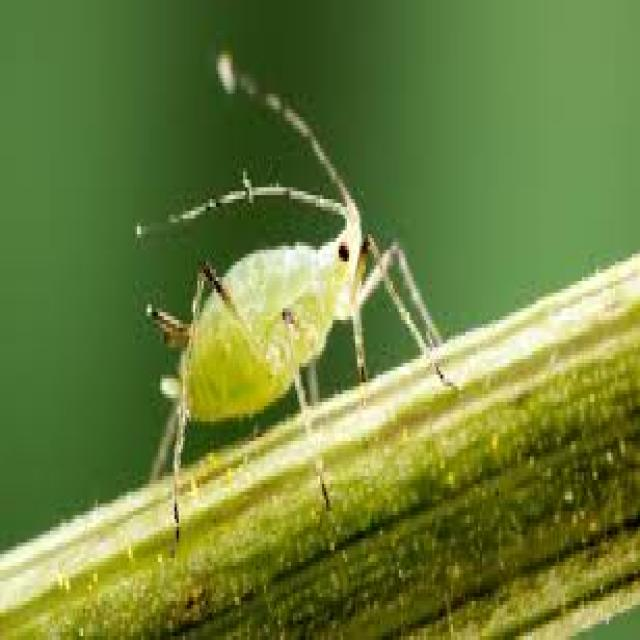Aphids: (98, 75, 475, 542)
